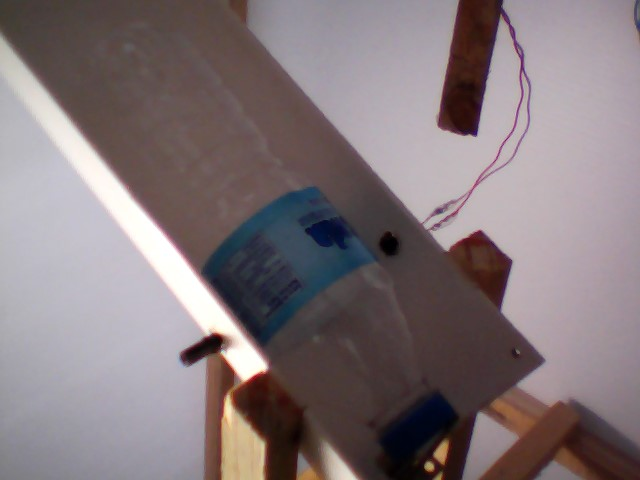plastico: (43, 15, 469, 463)
